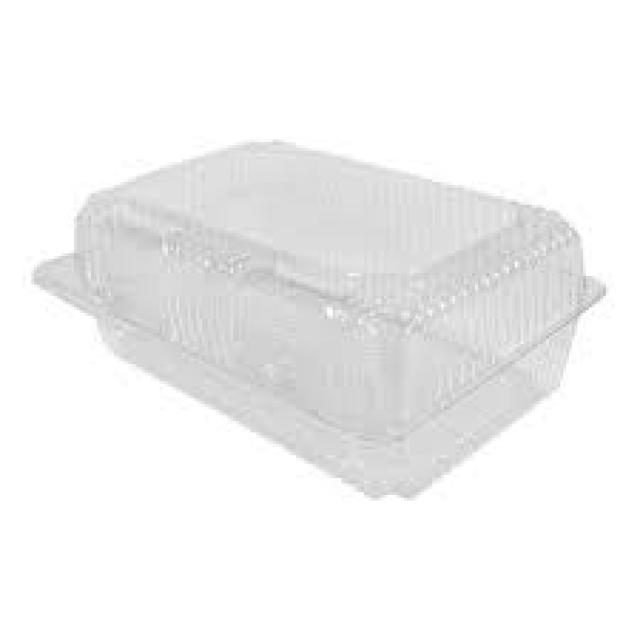disposable: (48, 115, 634, 518)
